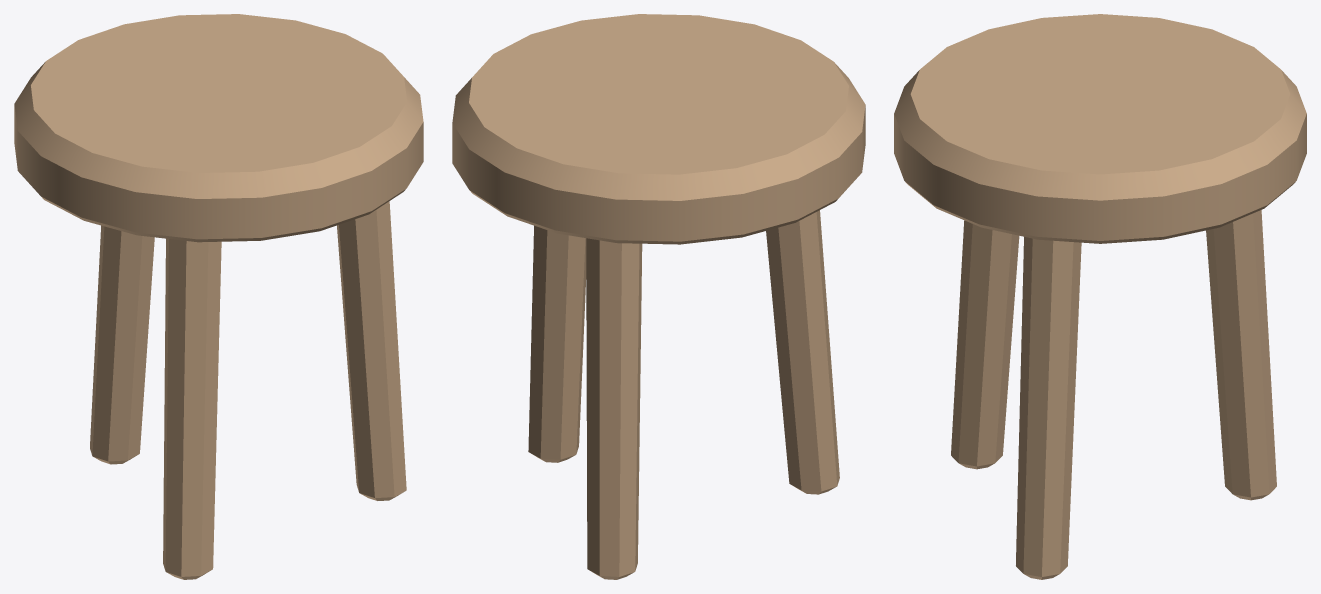
Rendered from geo_tabouret.fbx.
3 views of the same model, side by side, from view 1: azimuth 30°, elevation 25°; view 2: azimuth 150°, elevation 25°; view 3: azimuth 270°, elevation 25° (orthographic).
Visible parts, largest first — view 1: geo_tabouret; view 2: geo_tabouret; view 3: geo_tabouret.
Part boxes in pixels (box(x1,y1,x2,y2)): geo_tabouret: box(14, 14, 423, 579); geo_tabouret: box(452, 14, 865, 579); geo_tabouret: box(894, 14, 1306, 579).
Bounding box in the file's own units: 52.53 × 58.12 × 52.53.
